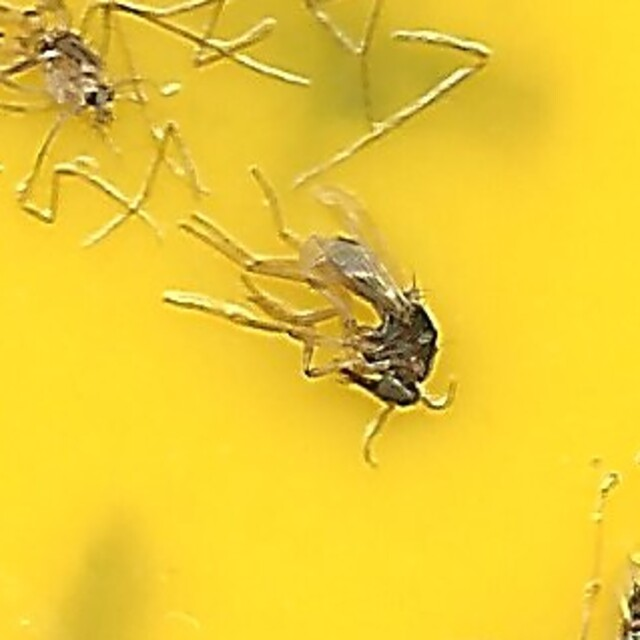Brachycera: (201, 219, 439, 421)
